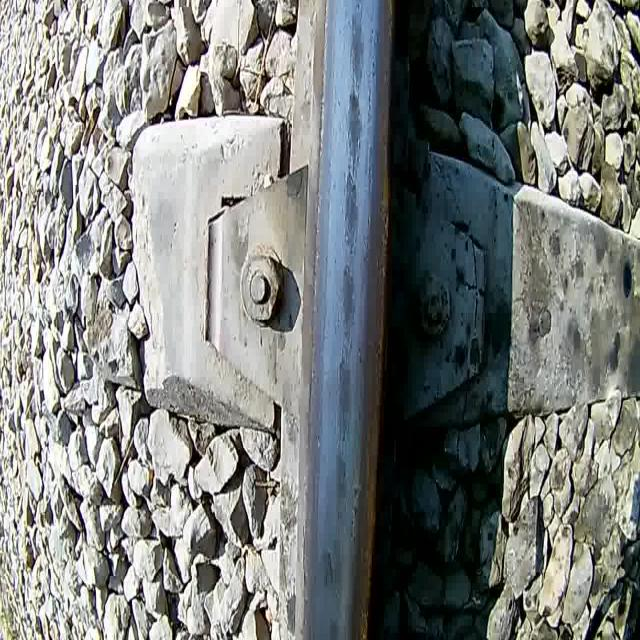Cracks: (346, 299, 358, 358), (347, 218, 361, 267), (366, 136, 376, 202), (322, 545, 336, 592), (338, 417, 350, 459), (336, 341, 346, 387), (366, 70, 374, 124), (350, 141, 358, 182), (366, 206, 374, 239)
Squats: (334, 334, 357, 444), (344, 8, 369, 92), (319, 531, 347, 605), (340, 168, 362, 261), (342, 89, 364, 176), (332, 442, 351, 526), (338, 262, 358, 340), (325, 612, 346, 640)
